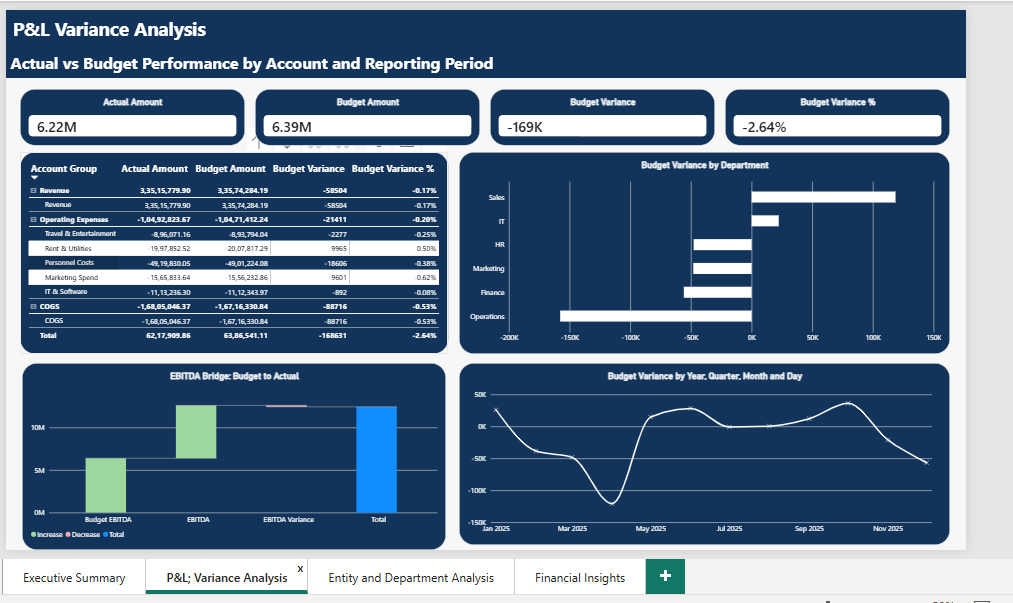

The page's visual inventory and layout, read from the dashboard file:
{"tool":"powerbi","page":{"name":"P&L; Variance Analysis","canvas":[1920,1080],"ordinal":1},"visuals":[{"type":"pivotTable","fields":{"Rows":["Dim_Account.Account Group","Dim_Account.Account"],"Values":["Fact_Financials.Actual Amount","Fact_Financials.Budget Amount","Fact_Financials.Budget Variance","Fact_Financials.Budget Variance %"]},"box":[27.6,284.9,856.8,403.9],"z":0},{"type":"waterfallChart","title":"EBITDA Bridge: Budget to Actual","fields":{"Category":["EBITDA Bridge.Stage"],"Y":["Fact_Financials.EBITDA Bridge Value"]},"box":[31.9,705.8,848.3,374.2],"z":1000},{"type":"lineChart","fields":{"Category":["Dim_Date.Month Year.Variation.Date Hierarchy.Year","Dim_Date.Month Year.Variation.Date Hierarchy.Quarter","Dim_Date.Month Year.Variation.Date Hierarchy.Month","Dim_Date.Month Year.Variation.Date Hierarchy.Day"],"Y":["Fact_Financials.Budget Variance"]},"box":[905.7,705.8,982.2,363.5],"z":2000},{"type":"textbox","box":[0,0,1919.8,136.1],"z":3000},{"type":"clusteredBarChart","fields":{"Category":["Dim_Department.Department"],"Y":["Fact_Financials.Budget Variance"]},"box":[905.7,284.9,982.2,403.9],"z":4000},{"type":"cardVisual","title":"Actual Amount","fields":{"Data":["Fact_Financials.Actual Amount"]},"box":[27.6,157.3,450,112.7],"z":5000},{"type":"cardVisual","title":"Budget Amount","fields":{"Data":["Fact_Financials.Budget Amount"]},"box":[497.5,157.3,450,112.7],"z":6000},{"type":"cardVisual","title":"Budget Variance","fields":{"Data":["Fact_Financials.Budget Variance"]},"box":[967.3,157.3,450,112.7],"z":7000},{"type":"cardVisual","title":"Budget Variance %","fields":{"Data":["Fact_Financials.Budget Variance %"]},"box":[1437.2,157.3,450,112.7],"z":8000}]}

Visuals, with their boxes in screenshot pixels (x1, y1, x2, y2):
pivotTable - Dim_Account.Account Group x Dim_Account.Account: left=16, top=151, right=446, bottom=354
"EBITDA Bridge: Budget to Actual" waterfallChart: left=19, top=362, right=444, bottom=550
lineChart - Dim_Date.Month Year.Variation.Date Hierarchy.Year x Dim_Date.Month Year.Variation.Date Hierarchy.Quarter: left=457, top=362, right=950, bottom=545
textbox: left=3, top=8, right=966, bottom=76
clusteredBarChart - Dim_Department.Department x Fact_Financials.Budget Variance: left=457, top=151, right=950, bottom=354
"Actual Amount" cardVisual: left=16, top=87, right=242, bottom=143
"Budget Amount" cardVisual: left=252, top=87, right=478, bottom=143
"Budget Variance" cardVisual: left=488, top=87, right=714, bottom=143
"Budget Variance %" cardVisual: left=724, top=87, right=950, bottom=143
